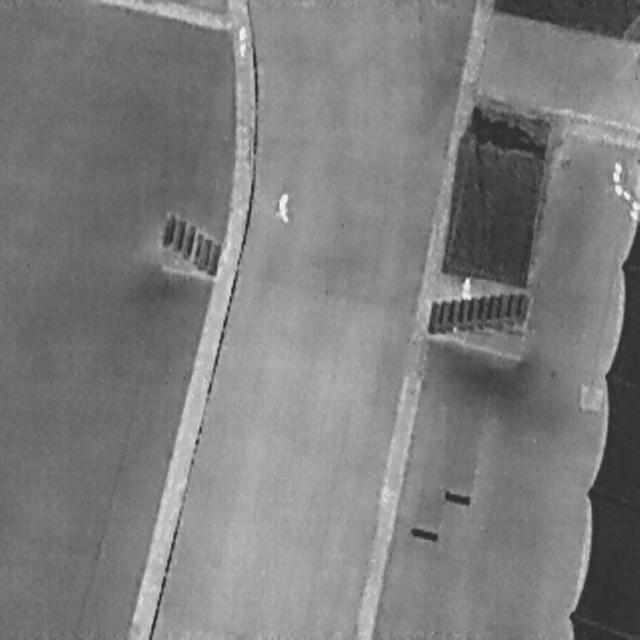Person: (276, 190, 290, 225), (236, 25, 247, 55), (460, 274, 471, 298)
